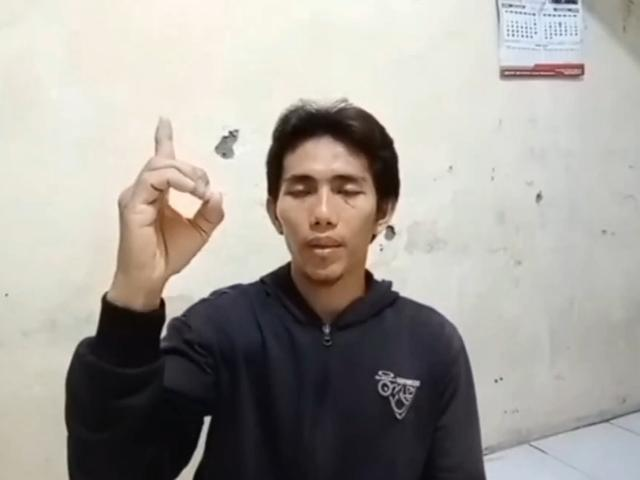D: (110, 114, 226, 274)
